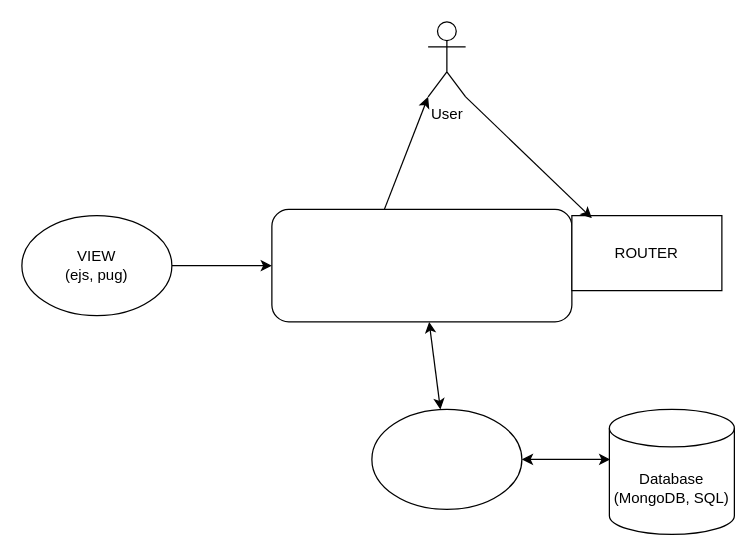
The diagram is 756 pixels wide and 556 high, and some of its shapes have lost their labels. The shapes that lost their labels are listed below. From the top down, each one's centre as x and y in pixels, then its label:
At (421,265): "CONTROLLER (express.js)".
At (446,458): "MODEL (Mongoose)".
